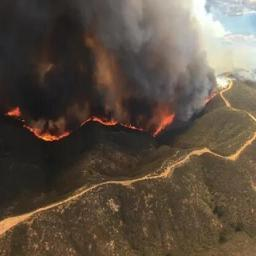Heavy smoke: (0, 0, 230, 133), (0, 99, 187, 140)
